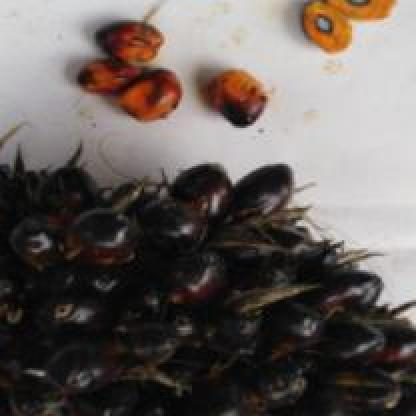Unripe: (0, 100, 416, 416)
